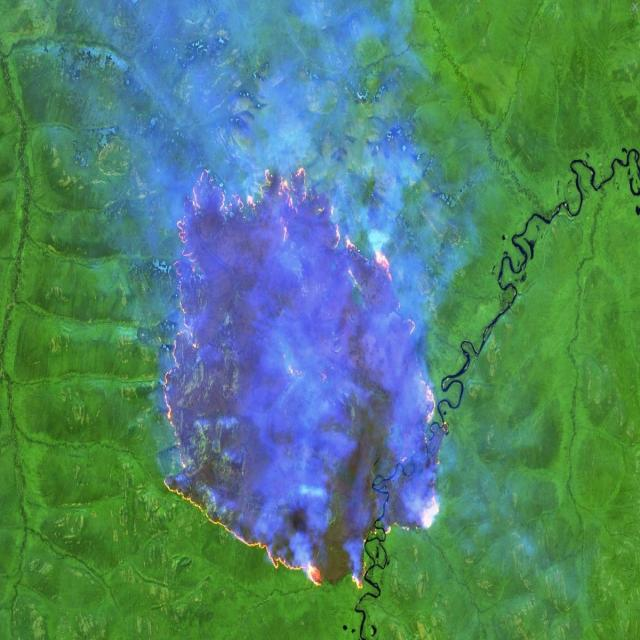fire: (145, 152, 453, 596)
